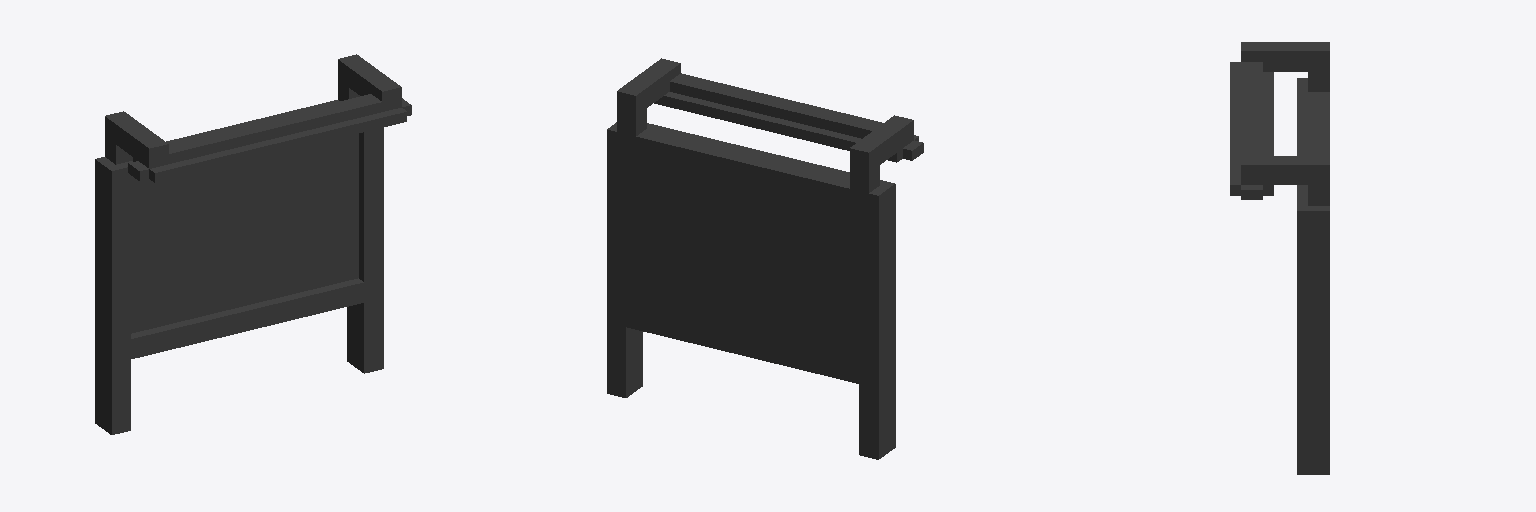
The picture shows the model from 3 angles: view 1: azimuth 30°, elevation 25°; view 2: azimuth 150°, elevation 25°; view 3: azimuth 270°, elevation 25°; orthographic projection.
Parts seen in each view (by area): view 1: object 1; view 2: object 1; view 3: object 1.
Part boxes in pixels (left/top/right/bottom): object 1: left=95, top=54, right=411, bottom=434; object 1: left=607, top=58, right=923, bottom=459; object 1: left=1230, top=42, right=1329, bottom=474.
Bounding box in the file's own units: 2.8 × 3 × 0.9.
Materials: 1 (1 with a texture image).